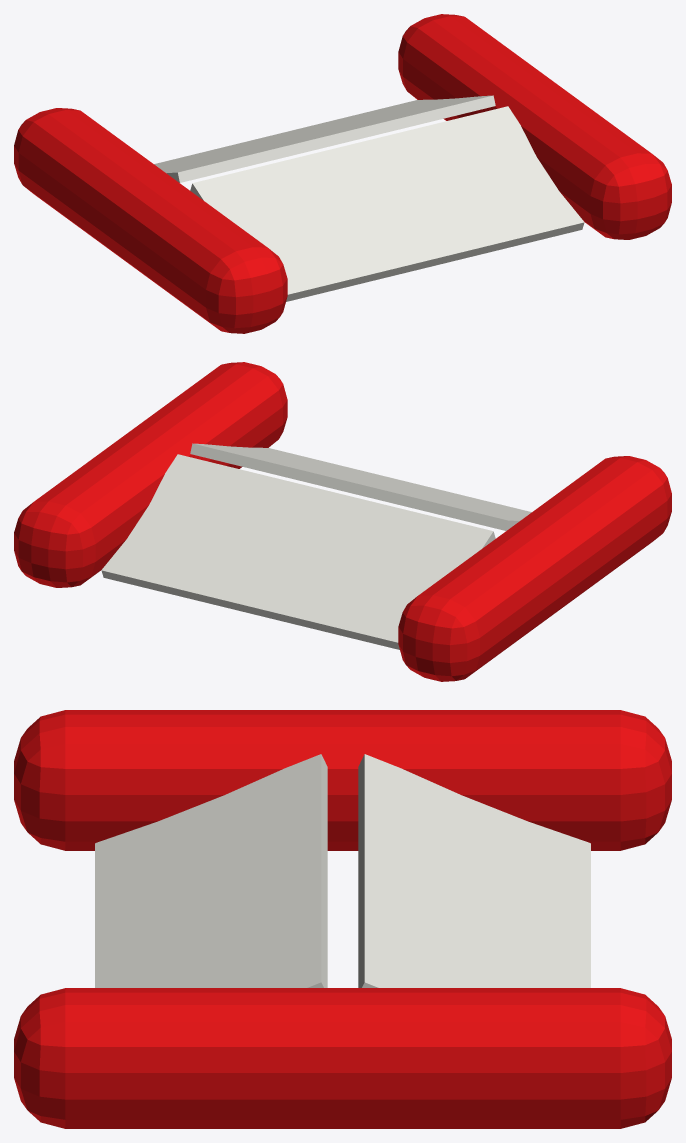
The model's file is Jump.fbx.
The picture shows the model from 3 angles, top to bottom: view 1: azimuth 30°, elevation 25°; view 2: azimuth 150°, elevation 25°; view 3: azimuth 270°, elevation 25°; orthographic projection. The views are drawn at different scales.
Visible parts, largest first — view 1: Floats, Ramps; view 2: Floats, Ramps; view 3: Floats, Ramps.
Part boxes in pixels (x1,y1,x2,y2): Floats: [14, 14, 671, 333]; Ramps: [154, 95, 584, 301]; Floats: [14, 362, 671, 681]; Ramps: [101, 443, 531, 649]; Floats: [14, 710, 671, 1128]; Ramps: [95, 754, 590, 987].
Size of the model in its own units: 1200 by 200 by 1000.
